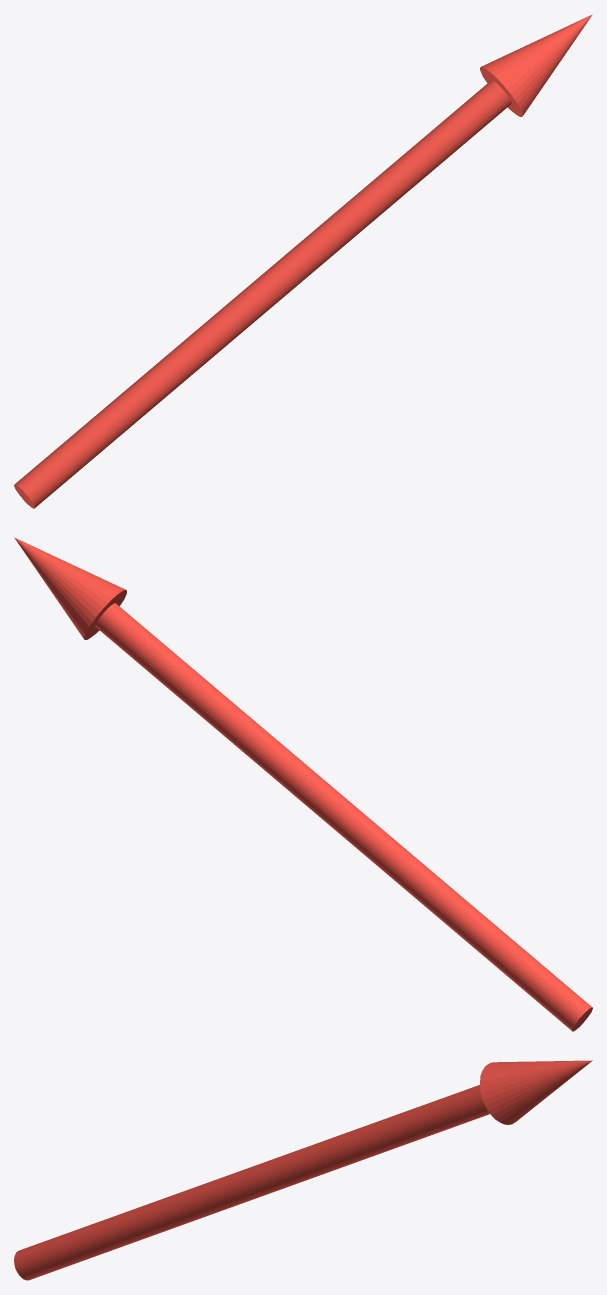
The model's file is Axis 1 C_BH3.gltf.
3 renders of one model, top to bottom at view 1: azimuth 30°, elevation 25°; view 2: azimuth 150°, elevation 25°; view 3: azimuth 330°, elevation 25°, orthographic.
Visible parts, largest first — view 1: Eje_Cono.003_Eje_Cono.019; view 2: Eje_Cono.003_Eje_Cono.019; view 3: Eje_Cono.003_Eje_Cono.019.
Boxes of the visible parts, x1,y1,x2,y2 form: Eje_Cono.003_Eje_Cono.019: (14, 14, 592, 508); Eje_Cono.003_Eje_Cono.019: (14, 537, 592, 1031); Eje_Cono.003_Eje_Cono.019: (14, 1060, 592, 1280).
Bounding box in the file's own units: 1.54 × 0.9093 × 0.1511.
